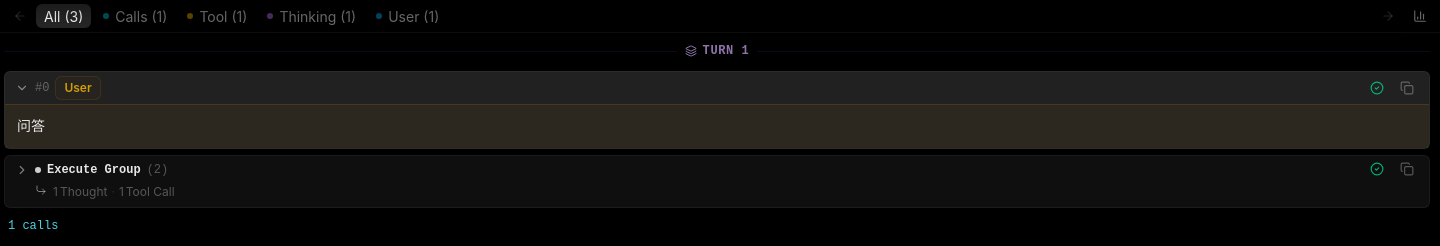
Test: AgentExecutionFlowList › 支持筛选功能
The width and height of the screenshot is (1440, 246).
Expected: the text "Execute Group" is shown, [47,162,141,178]
//  切换到工具筛选
What coordinates should you click on to do the following:
click the button "Tool (1)"
I would click on:
 (217, 16)
Its box is [179,4,255,28].
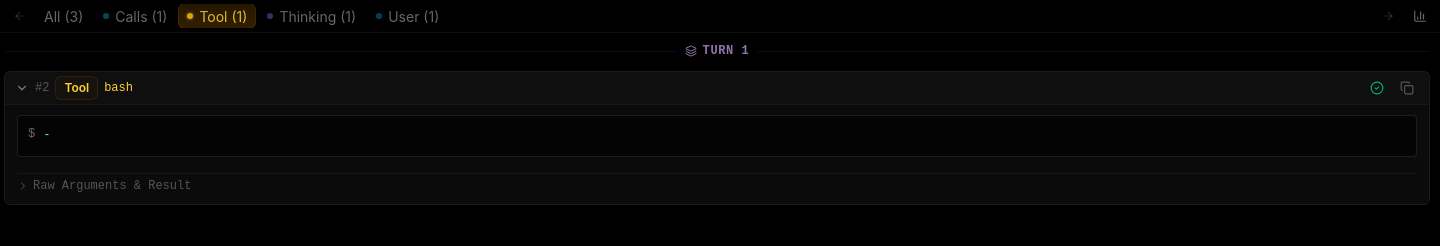
Now the text "bash" is shown, box [104,82,133,94]
Now the text "问答" is gone
